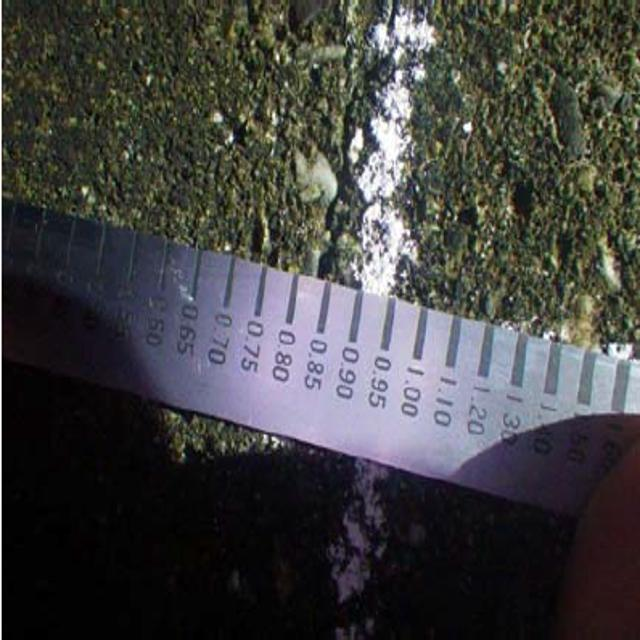crack: (310, 8, 444, 286)
